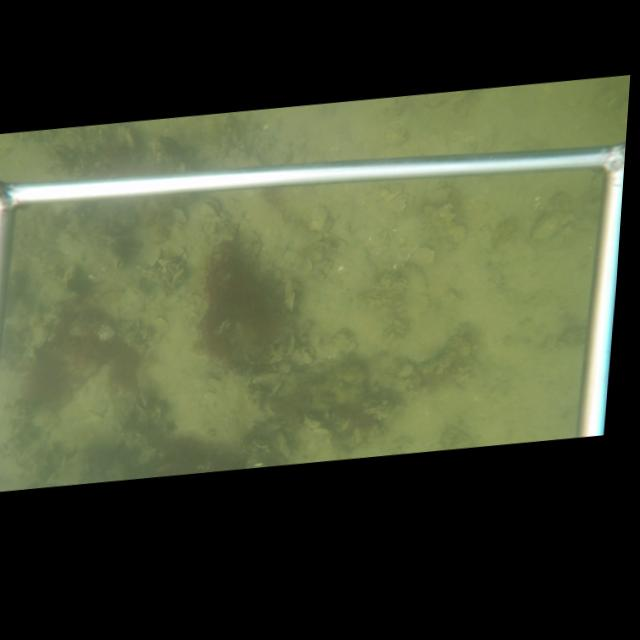Oyster-Indeterminate: (284, 280, 298, 313), (146, 246, 163, 268)
Oyster-Open: (200, 198, 220, 216), (78, 152, 87, 168)
